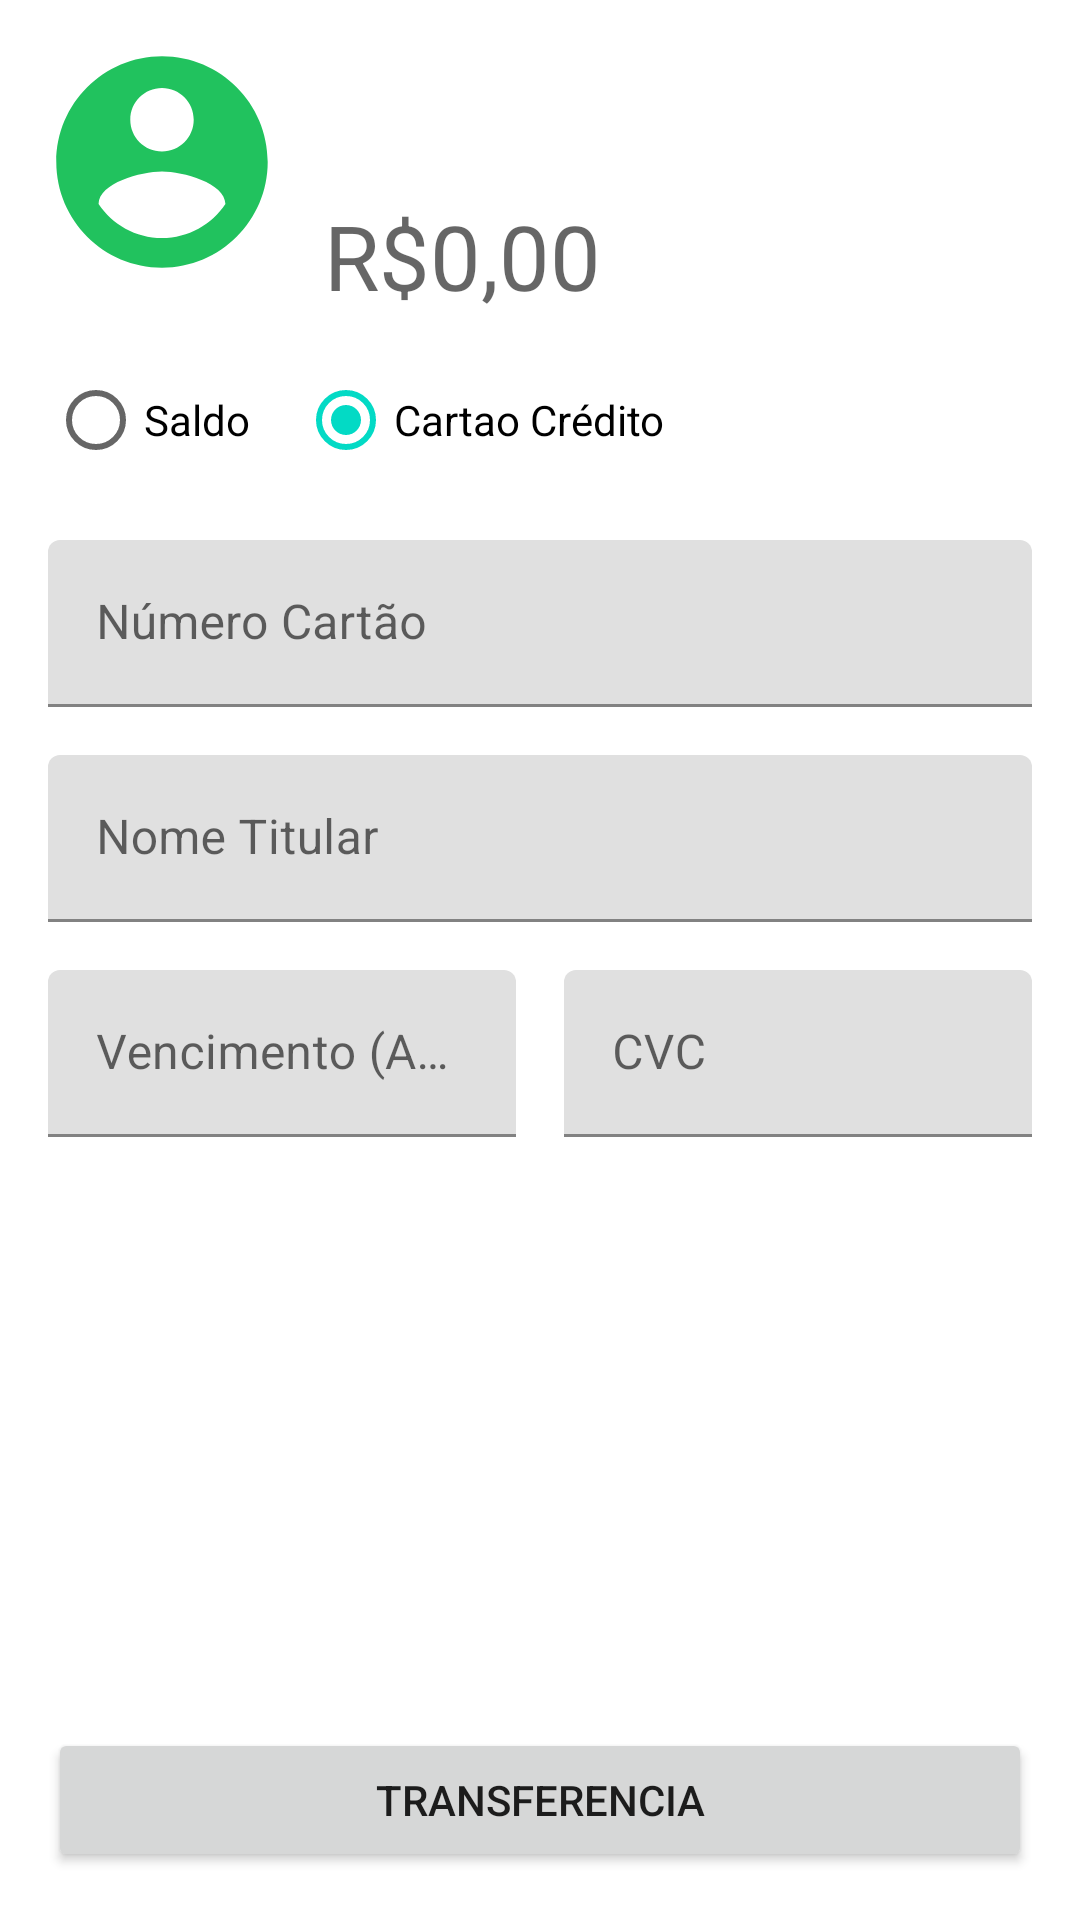

Screen size 1080×1920. Icon name, then its box in pixels as (x1, y1, x2, y2):
conta verde: (56, 56, 268, 268)
